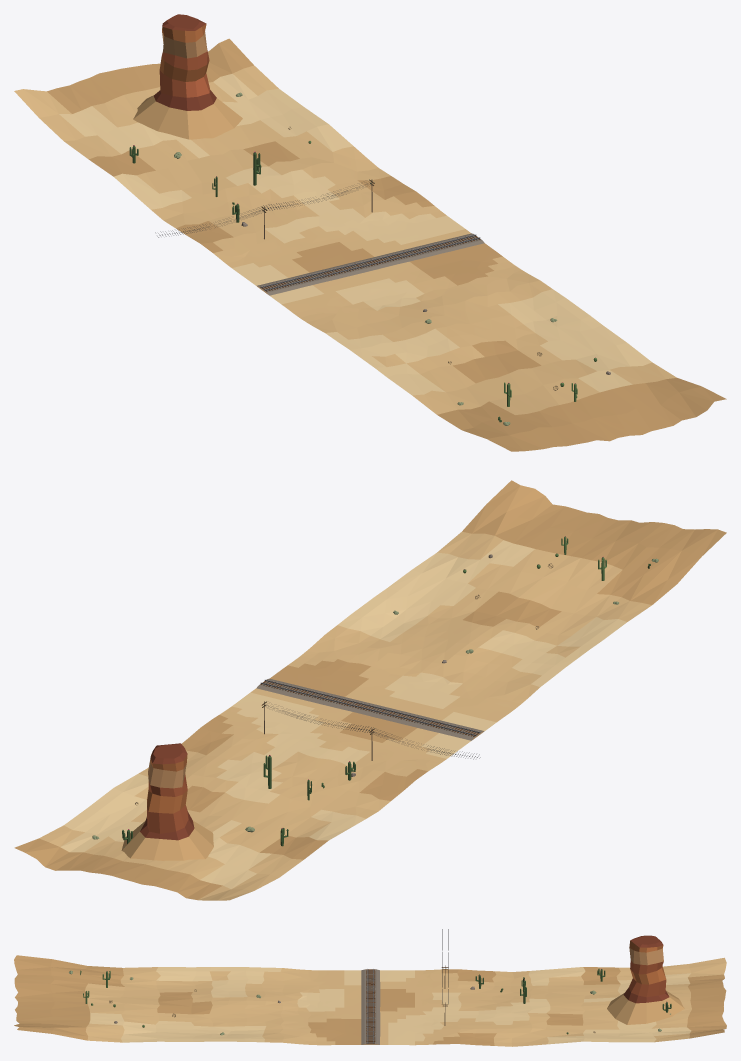
The model's file is chunk_flat_a.glb.
The picture shows the model from 3 angles, top to bottom: view 1: azimuth 30°, elevation 25°; view 2: azimuth 150°, elevation 25°; view 3: azimuth 270°, elevation 25°; orthographic projection. The views are drawn at different scales.
Parts seen in each view (by area): view 1: FG_Chunk_Flat_A_Track; view 2: FG_Chunk_Flat_A_Track; view 3: FG_Chunk_Flat_A_Track.
Part boxes in pixels (x1,y1,x2,y2): FG_Chunk_Flat_A_Track: (14,14,726,451); FG_Chunk_Flat_A_Track: (14,480,726,900); FG_Chunk_Flat_A_Track: (14,929,726,1046).
Size of the model in its own units: 62.49 by 22.4 by 201.
